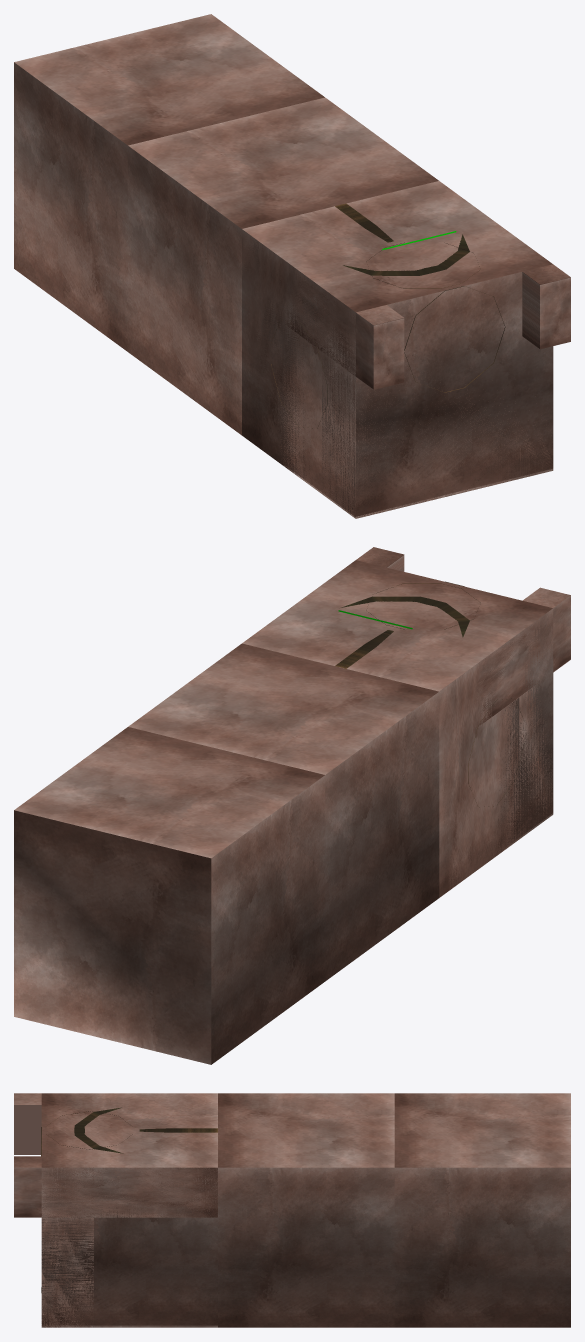
File: new_ground.FBX
3 views of the same model, one above another, from view 1: azimuth 30°, elevation 25°; view 2: azimuth 150°, elevation 25°; view 3: azimuth 270°, elevation 25° (orthographic). The views are drawn at different scales.
Parts seen in each view (by area): view 1: chao_baixoL, chao-ponta, full-wall, half-wall, chao-base, pilar, parede; view 2: chao_baixoL, half-wall, chao-ponta, half-wall_engine, full-wall, chao-base, pilar; view 3: chao_baixoL, chao-ponta, chao-base, chao-corrido, parede, pilar, canos-cantos_topo.
Part boxes in pixels (x1,y1,x2,y2): chao_baixoL: (14, 14, 553, 518); chao-ponta: (280, 264, 570, 517); full-wall: (242, 229, 309, 480); half-wall: (242, 229, 298, 415); chao-base: (287, 267, 355, 376); pilar: (345, 234, 469, 275); parede: (356, 397, 553, 515); chao_baixoL: (14, 560, 553, 1064); half-wall: (439, 660, 496, 897); chao-ponta: (356, 547, 570, 819); half-wall_engine: (496, 699, 523, 855); full-wall: (439, 688, 535, 897); chao-base: (473, 619, 545, 702); pilar: (341, 596, 469, 637); chao_baixoL: (41, 1093, 570, 1327); chao-ponta: (14, 1093, 217, 1327); chao-base: (41, 1167, 217, 1217); chao-corrido: (41, 1167, 217, 1217); parede: (41, 1167, 93, 1327); pilar: (74, 1107, 123, 1153); canos-cantos_topo: (139, 1128, 217, 1132).
Bounding box in the file's own units: 32.03 × 32.25 × 101.
5 materials, 3 textured.
